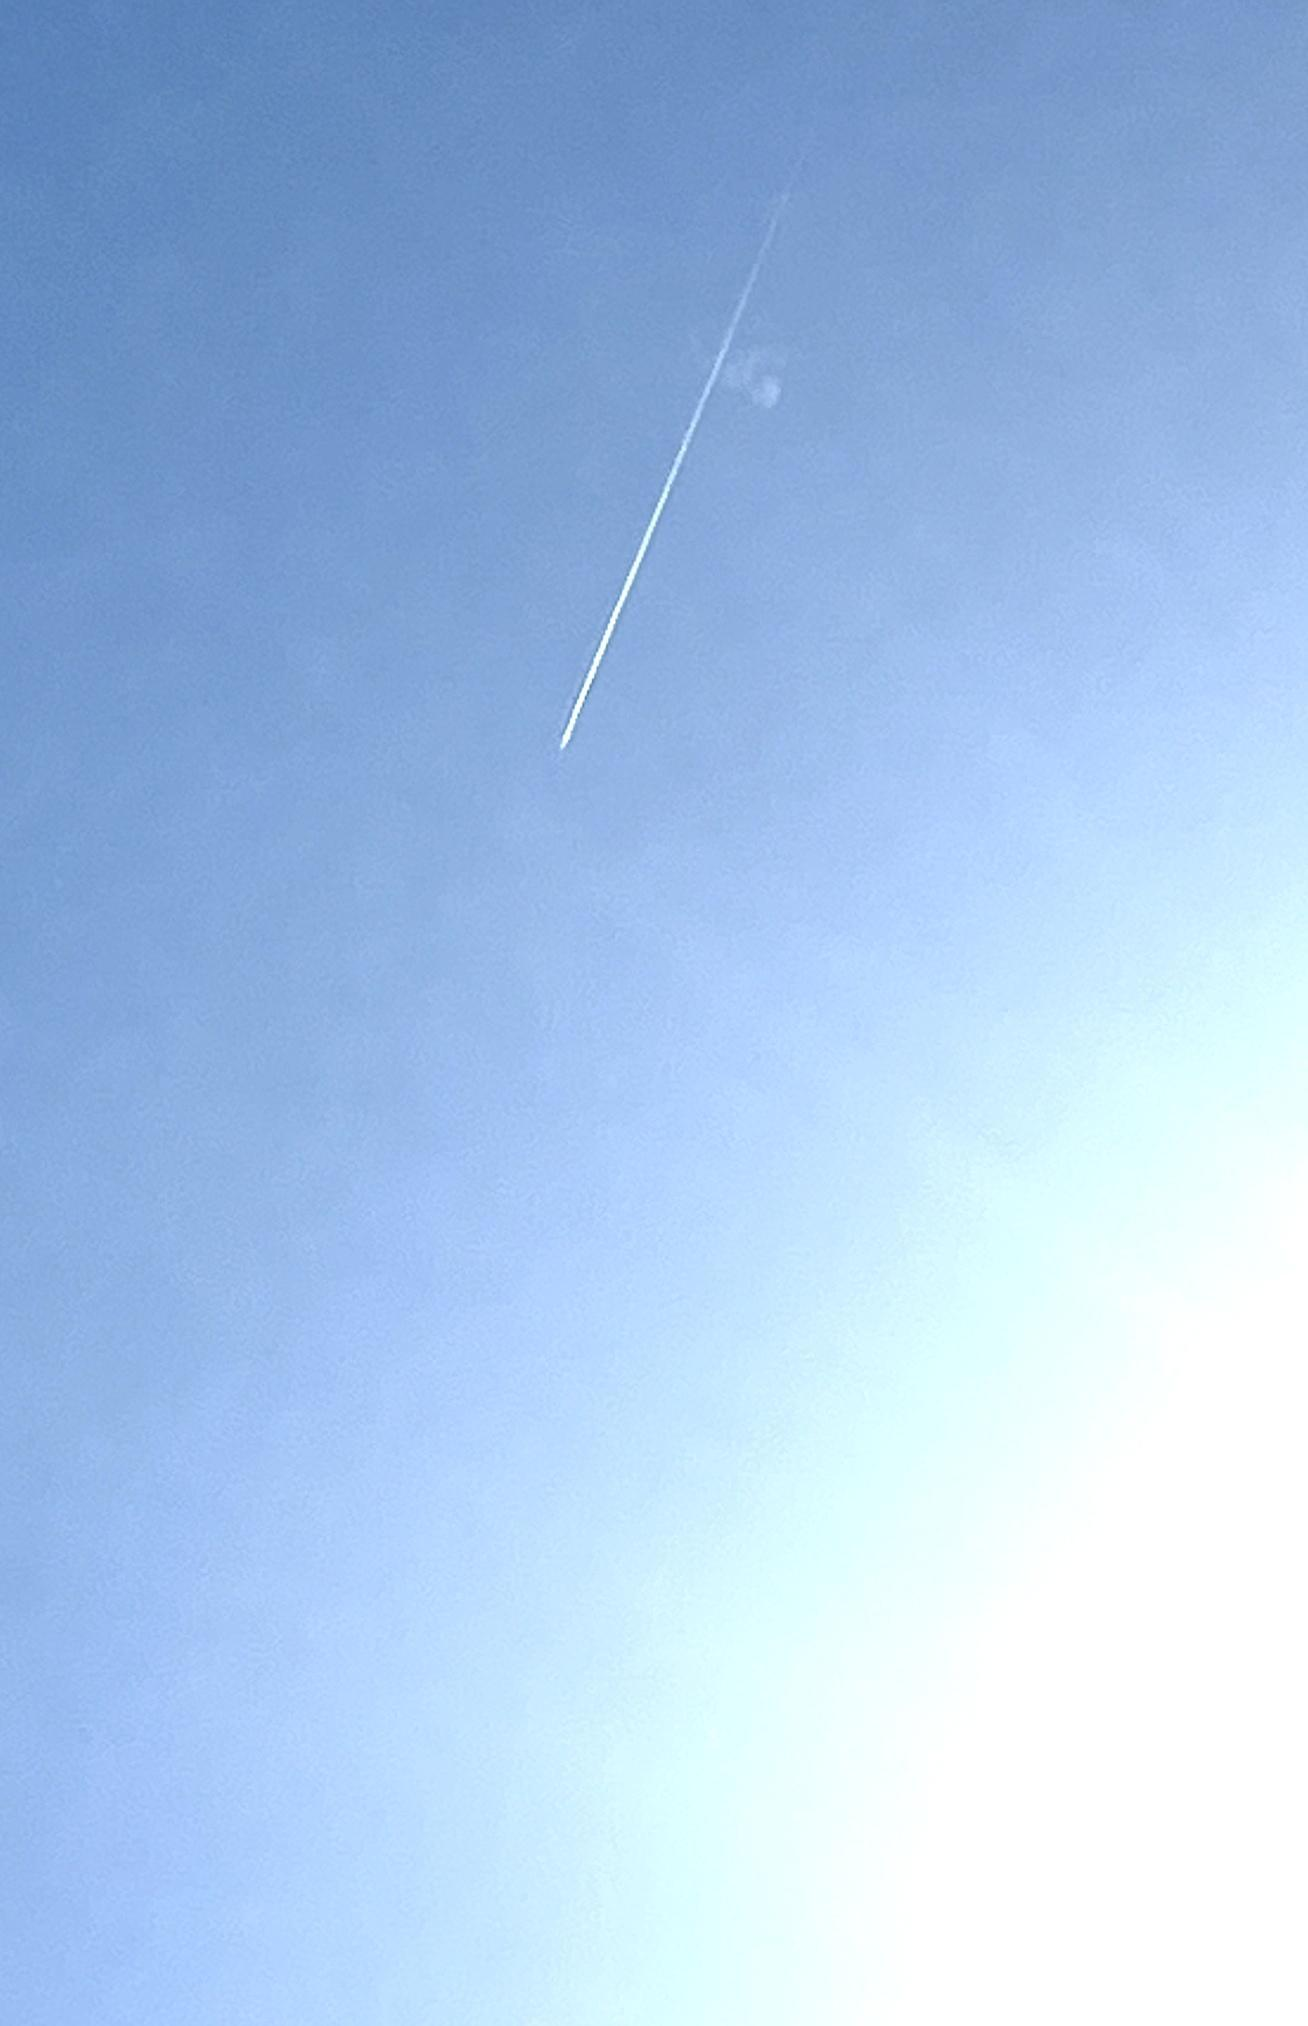Plane: (526, 600, 648, 789)
